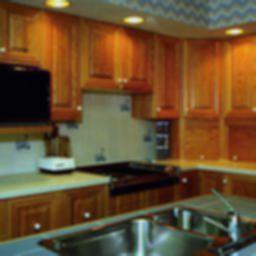Electrodomestico: (87, 161, 173, 190)
Lavaplatos: (37, 187, 249, 251)
